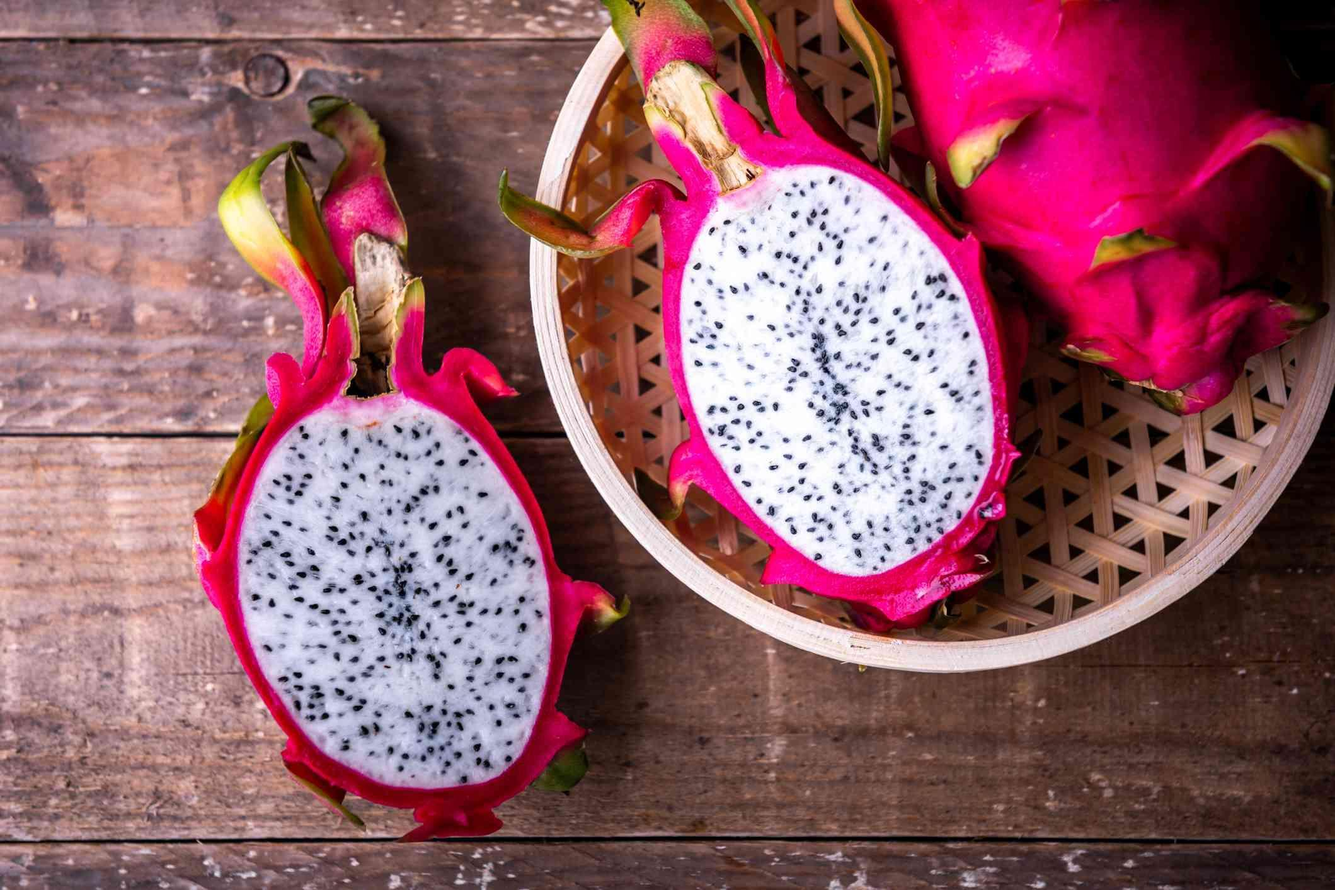dragon-fruit: (890, 0, 1323, 419), (657, 150, 1014, 599), (217, 385, 569, 812)
